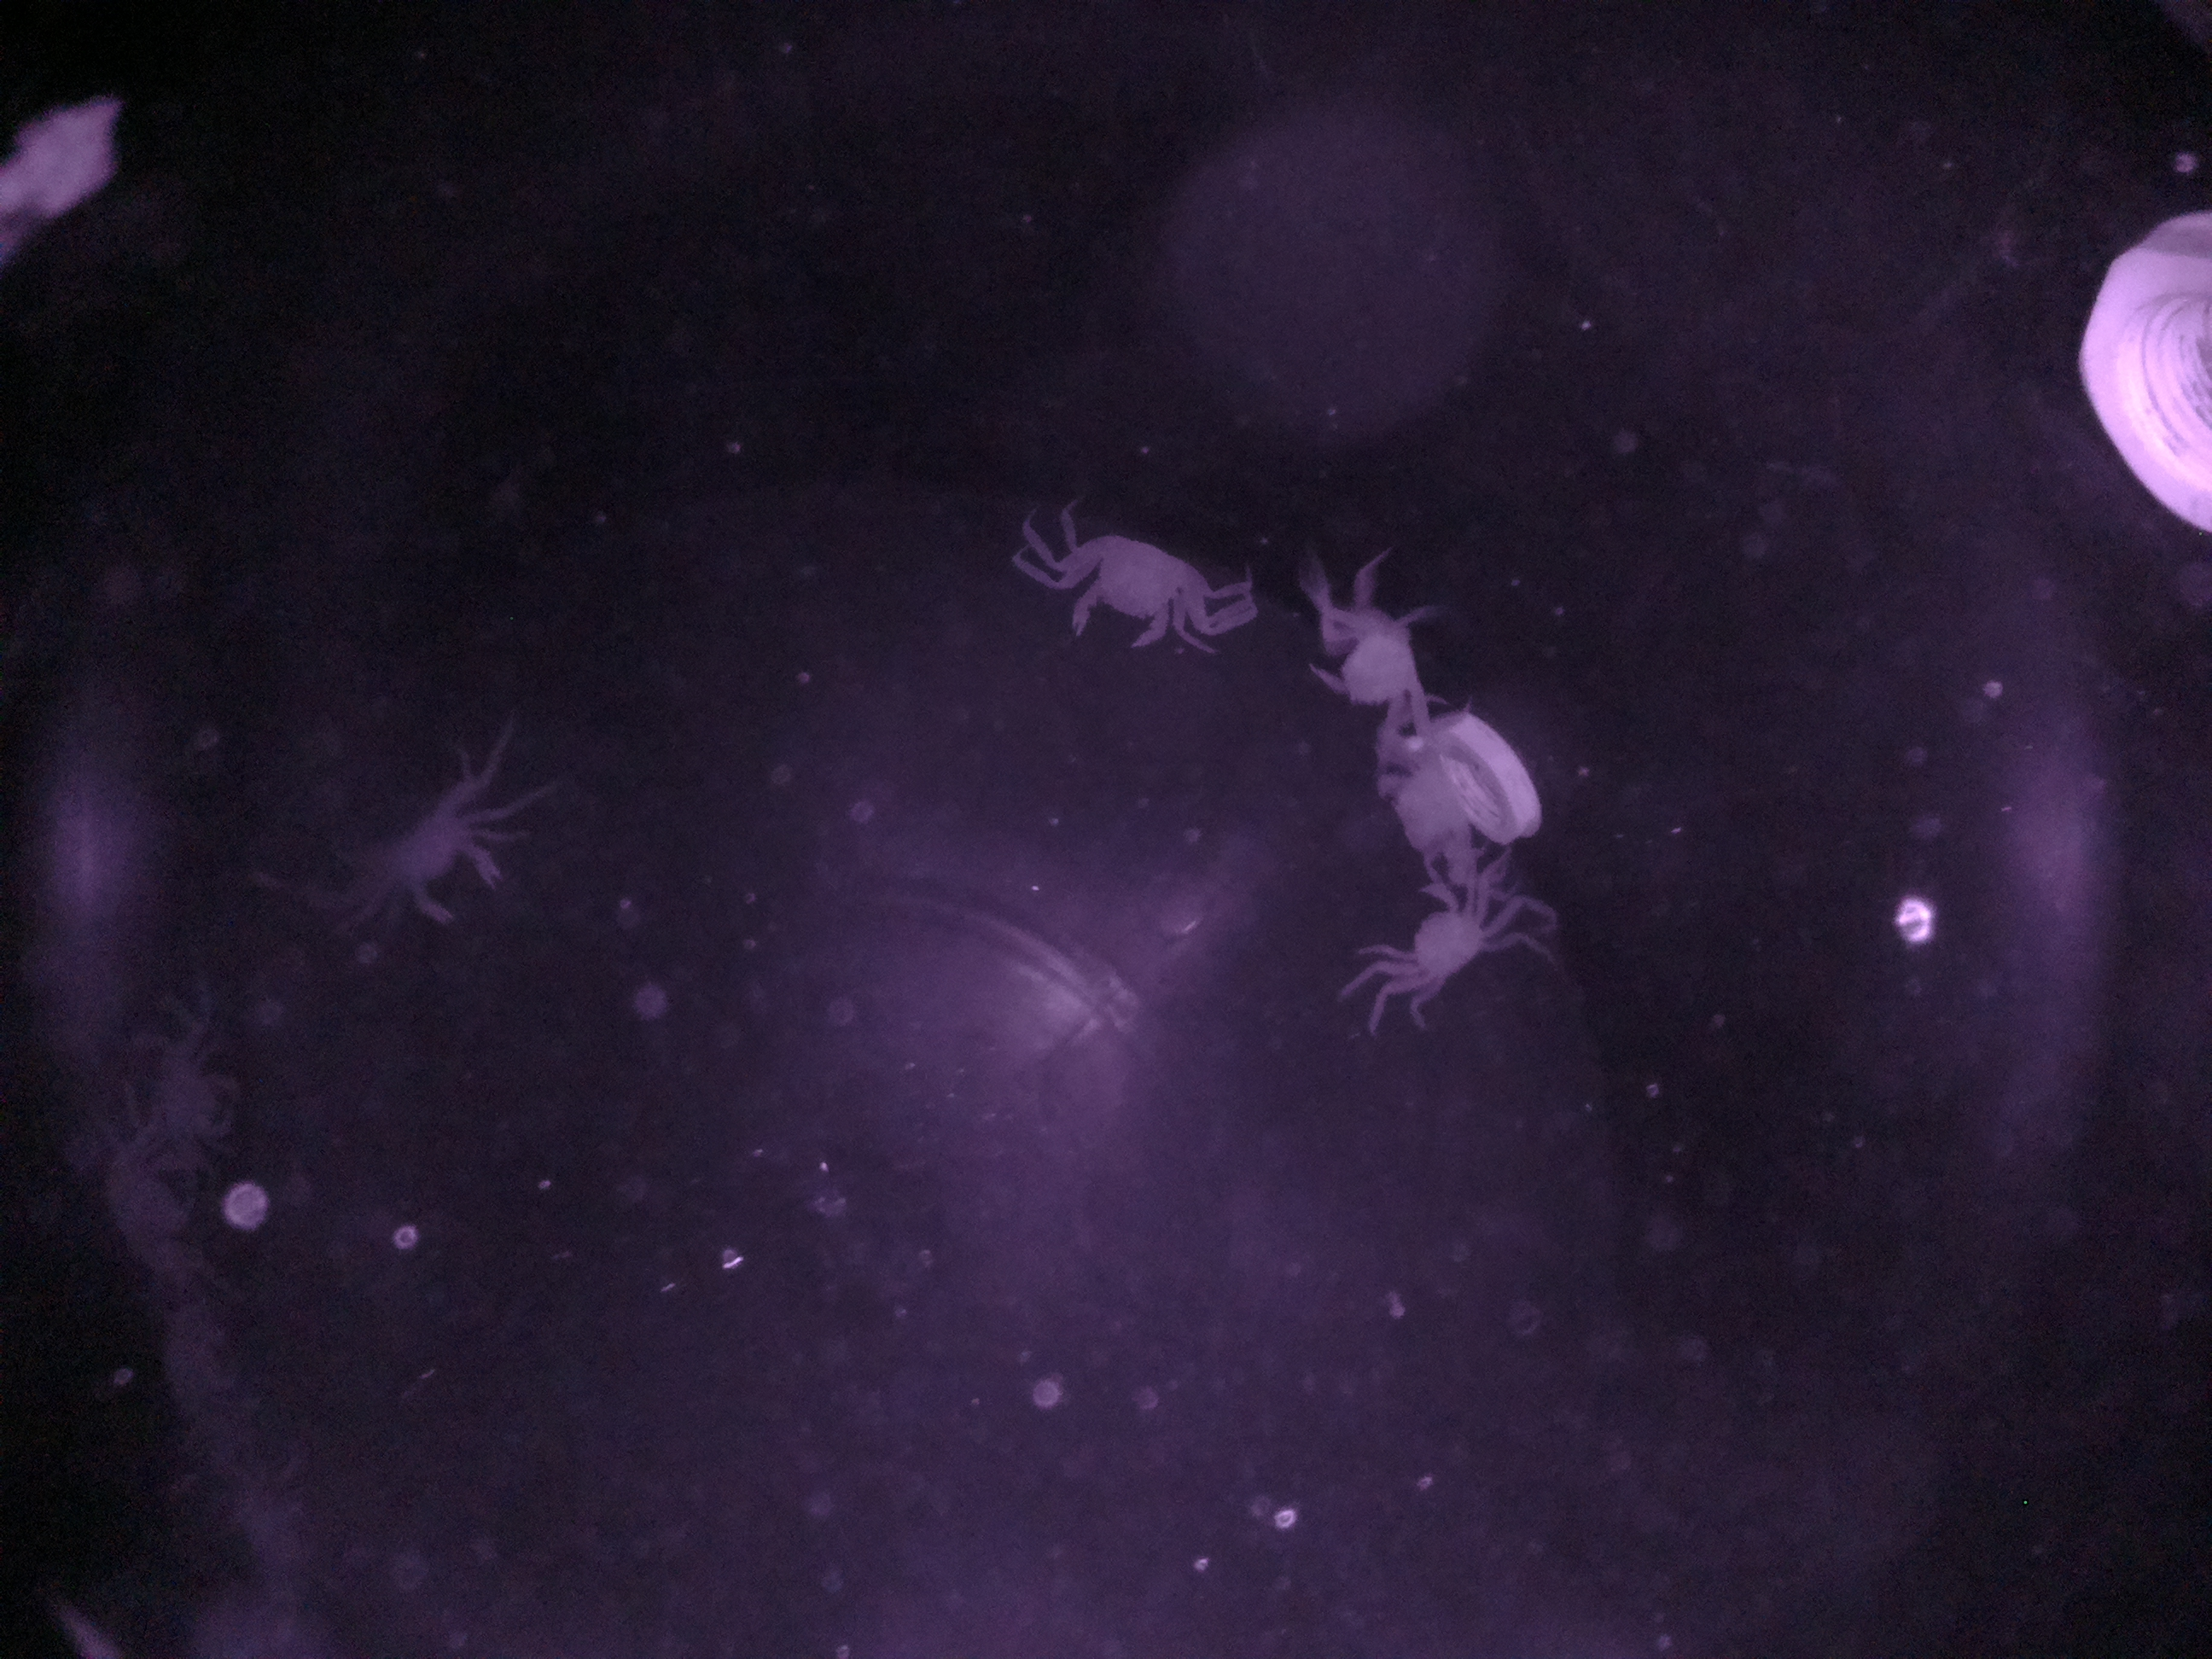Crab: (1029, 493, 1273, 683), (326, 762, 549, 953), (1355, 864, 1568, 1016)
